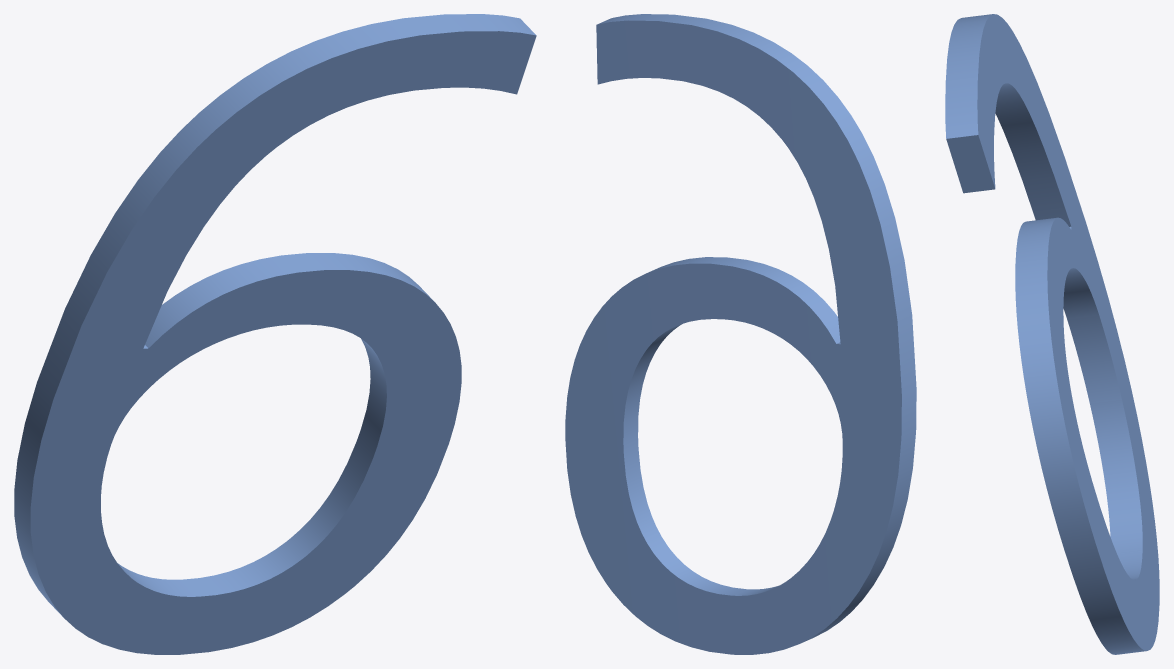
The model's file is New_Number_6.gltf.
3 views of the same model, side by side, from view 1: azimuth 30°, elevation 25°; view 2: azimuth 150°, elevation 25°; view 3: azimuth 270°, elevation 25° (orthographic). The views are drawn at different scales.
Visible parts, largest first — view 1: Part 105; view 2: Part 105; view 3: Part 105.
Boxes of the visible parts, <box> form: Part 105: <box>14,14,536,654</box>; Part 105: <box>565,14,916,654</box>; Part 105: <box>945,14,1159,654</box>.
Size of the model in its own units: 0.00371 by 0.00543 by 0.00169.
